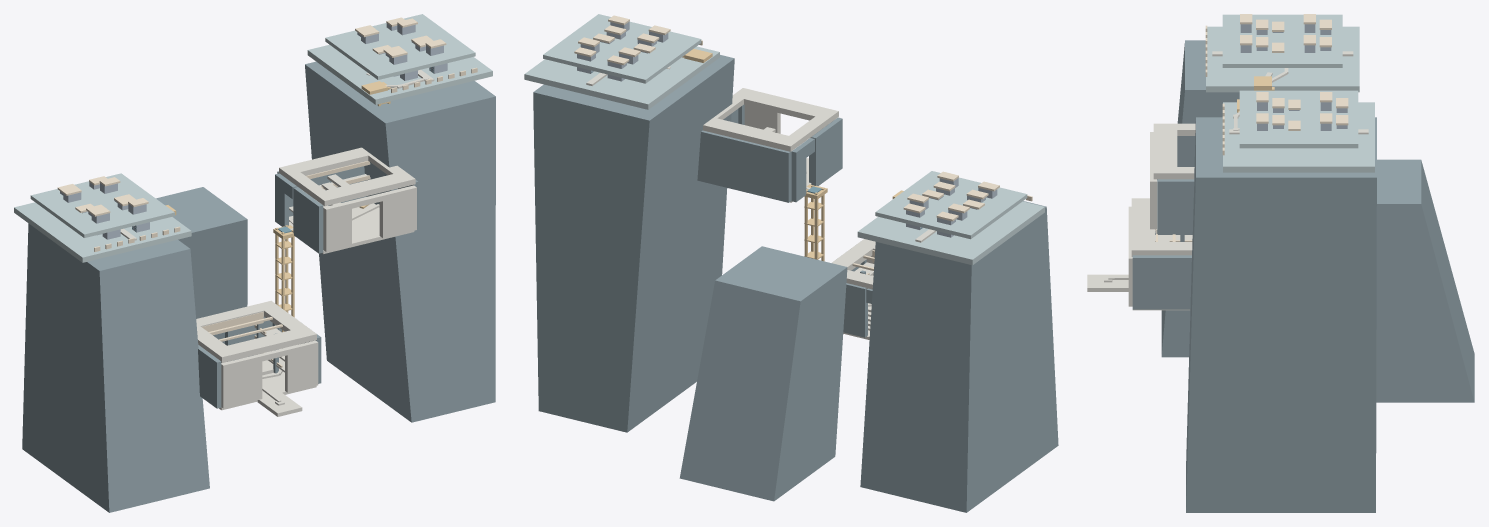
File: M3D1S_J6_UPPER_EAST.glb
3 renders of one model, left to right at view 1: azimuth 30°, elevation 25°; view 2: azimuth 150°, elevation 25°; view 3: azimuth 270°, elevation 25°, orthographic. The views are drawn at different scales.
Visible parts, largest first — view 1: EAST_CITY_MASS, WEST_CITY_MASS, NORTH_DIAGONAL_CITY_SUPPORT, EAST_LIVING_TERRACE_LEVEL_2, WEST_LIVING_TERRACE_LEVEL_2, WEST_LIVING_TERRACE_MAIN_FLOOR, EAST_LIVING_TERRACE_MAIN_FLOOR, P1_SOUTH_ENTRY_L, P2_SOUTH_ENTRY_R, P1_ROOF_S, P2_WEST_WALL_SOUTH, P1_SOUTH_ENTRY_R (+11 smaller); view 2: EAST_CITY_MASS, WEST_CITY_MASS, NORTH_DIAGONAL_CITY_SUPPORT, P2_NORTH_WALL, EAST_LIVING_TERRACE_LEVEL_2, WEST_LIVING_TERRACE_MAIN_FLOOR, EAST_LIVING_TERRACE_MAIN_FLOOR, WEST_LIVING_TERRACE_LEVEL_2, P2_WEST_WALL_SOUTH, P2_ROOF_S, P2_ROOF_N, P1_NORTH_WALL_EAST (+3 smaller); view 3: EAST_CITY_MASS, NORTH_DIAGONAL_CITY_SUPPORT, EAST_LIVING_TERRACE_LEVEL_2, EAST_LIVING_TERRACE_MAIN_FLOOR, WEST_LIVING_TERRACE_LEVEL_2, WEST_LIVING_TERRACE_MAIN_FLOOR, WEST_CITY_MASS, P1_EAST_WALL_SOUTH, P2_EAST_WALL_SOUTH, P2_ROOF_S, P1_ROOF_S, P1_PUBLIC_APPROACH (+2 smaller).
Part boxes in pixels (left/top/right/bottom): EAST_CITY_MASS: left=305, top=61, right=495, bottom=422; WEST_CITY_MASS: left=22, top=223, right=209, bottom=512; NORTH_DIAGONAL_CITY_SUPPORT: left=156, top=187, right=247, bottom=343; EAST_LIVING_TERRACE_LEVEL_2: left=325, top=14, right=475, bottom=79; WEST_LIVING_TERRACE_LEVEL_2: left=30, top=173, right=174, bottom=237; WEST_LIVING_TERRACE_MAIN_FLOOR: left=14, top=202, right=191, bottom=262; EAST_LIVING_TERRACE_MAIN_FLOOR: left=307, top=44, right=492, bottom=104; P1_SOUTH_ENTRY_L: left=221, top=354, right=262, bottom=408; P2_SOUTH_ENTRY_R: left=379, top=185, right=416, bottom=238; P1_ROOF_S: left=211, top=328, right=316, bottom=362; P2_WEST_WALL_SOUTH: left=293, top=187, right=323, bottom=253; P1_SOUTH_ENTRY_R: left=285, top=340, right=318, bottom=392; EAST_CITY_MASS: left=533, top=55, right=734, bottom=432; WEST_CITY_MASS: left=860, top=201, right=1058, bottom=512; NORTH_DIAGONAL_CITY_SUPPORT: left=679, top=246, right=847, bottom=501; P2_NORTH_WALL: left=697, top=130, right=791, bottom=202; EAST_LIVING_TERRACE_LEVEL_2: left=543, top=14, right=701, bottom=83; WEST_LIVING_TERRACE_MAIN_FLOOR: left=857, top=201, right=1044, bottom=265; EAST_LIVING_TERRACE_MAIN_FLOOR: left=524, top=46, right=719, bottom=109; WEST_LIVING_TERRACE_LEVEL_2: left=875, top=171, right=1027, bottom=239; P2_WEST_WALL_SOUTH: left=811, top=117, right=842, bottom=185; P2_ROOF_S: left=732, top=88, right=838, bottom=124; P2_ROOF_N: left=703, top=117, right=800, bottom=151; P1_NORTH_WALL_EAST: left=843, top=283, right=867, bottom=337; EAST_CITY_MASS: left=1186, top=117, right=1376, bottom=512; NORTH_DIAGONAL_CITY_SUPPORT: left=1376, top=159, right=1474, bottom=402; EAST_LIVING_TERRACE_LEVEL_2: left=1239, top=90, right=1358, bottom=148; EAST_LIVING_TERRACE_MAIN_FLOOR: left=1223, top=102, right=1374, bottom=172; WEST_LIVING_TERRACE_LEVEL_2: left=1222, top=14, right=1342, bottom=67; WEST_LIVING_TERRACE_MAIN_FLOOR: left=1206, top=26, right=1359, bottom=92; WEST_CITY_MASS: left=1161, top=40, right=1239, bottom=357; P1_EAST_WALL_SOUTH: left=1132, top=255, right=1191, bottom=309; P2_EAST_WALL_SOUTH: left=1157, top=179, right=1194, bottom=234; P2_ROOF_S: left=1153, top=123, right=1177, bottom=179; P1_ROOF_S: left=1131, top=198, right=1155, bottom=256; P1_PUBLIC_APPROACH: left=1087, top=274, right=1128, bottom=291.
Bounding box in the file's own units: 2990 × 2367 × 2140.
